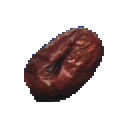ng: (19, 19, 109, 106)
